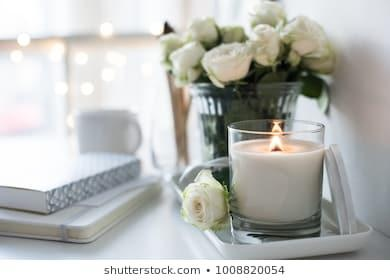fire: (265, 117, 285, 150)
